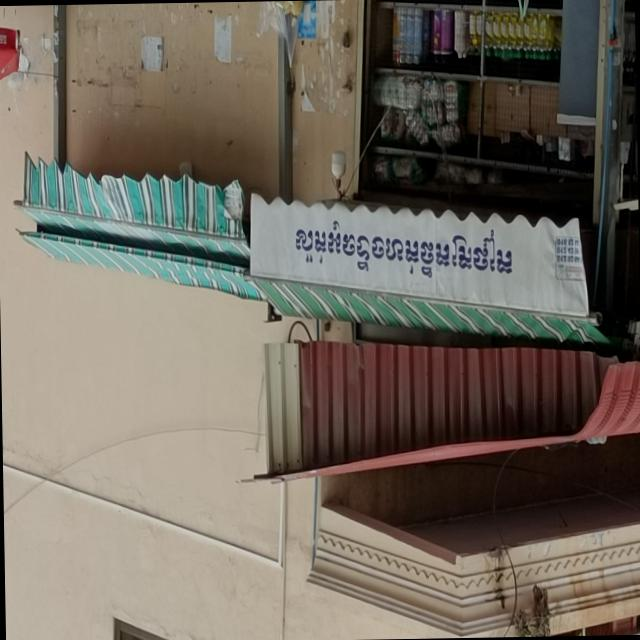Yolov11_80vkh: (289, 214, 516, 288)
